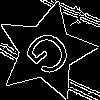G: (21, 26, 82, 87)
